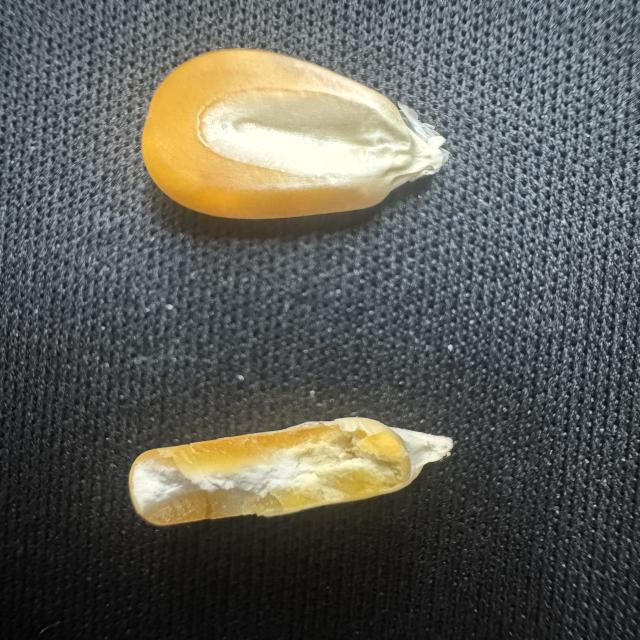Bad-Seed: (109, 408, 474, 532)
Good-Seed: (126, 38, 457, 232)
